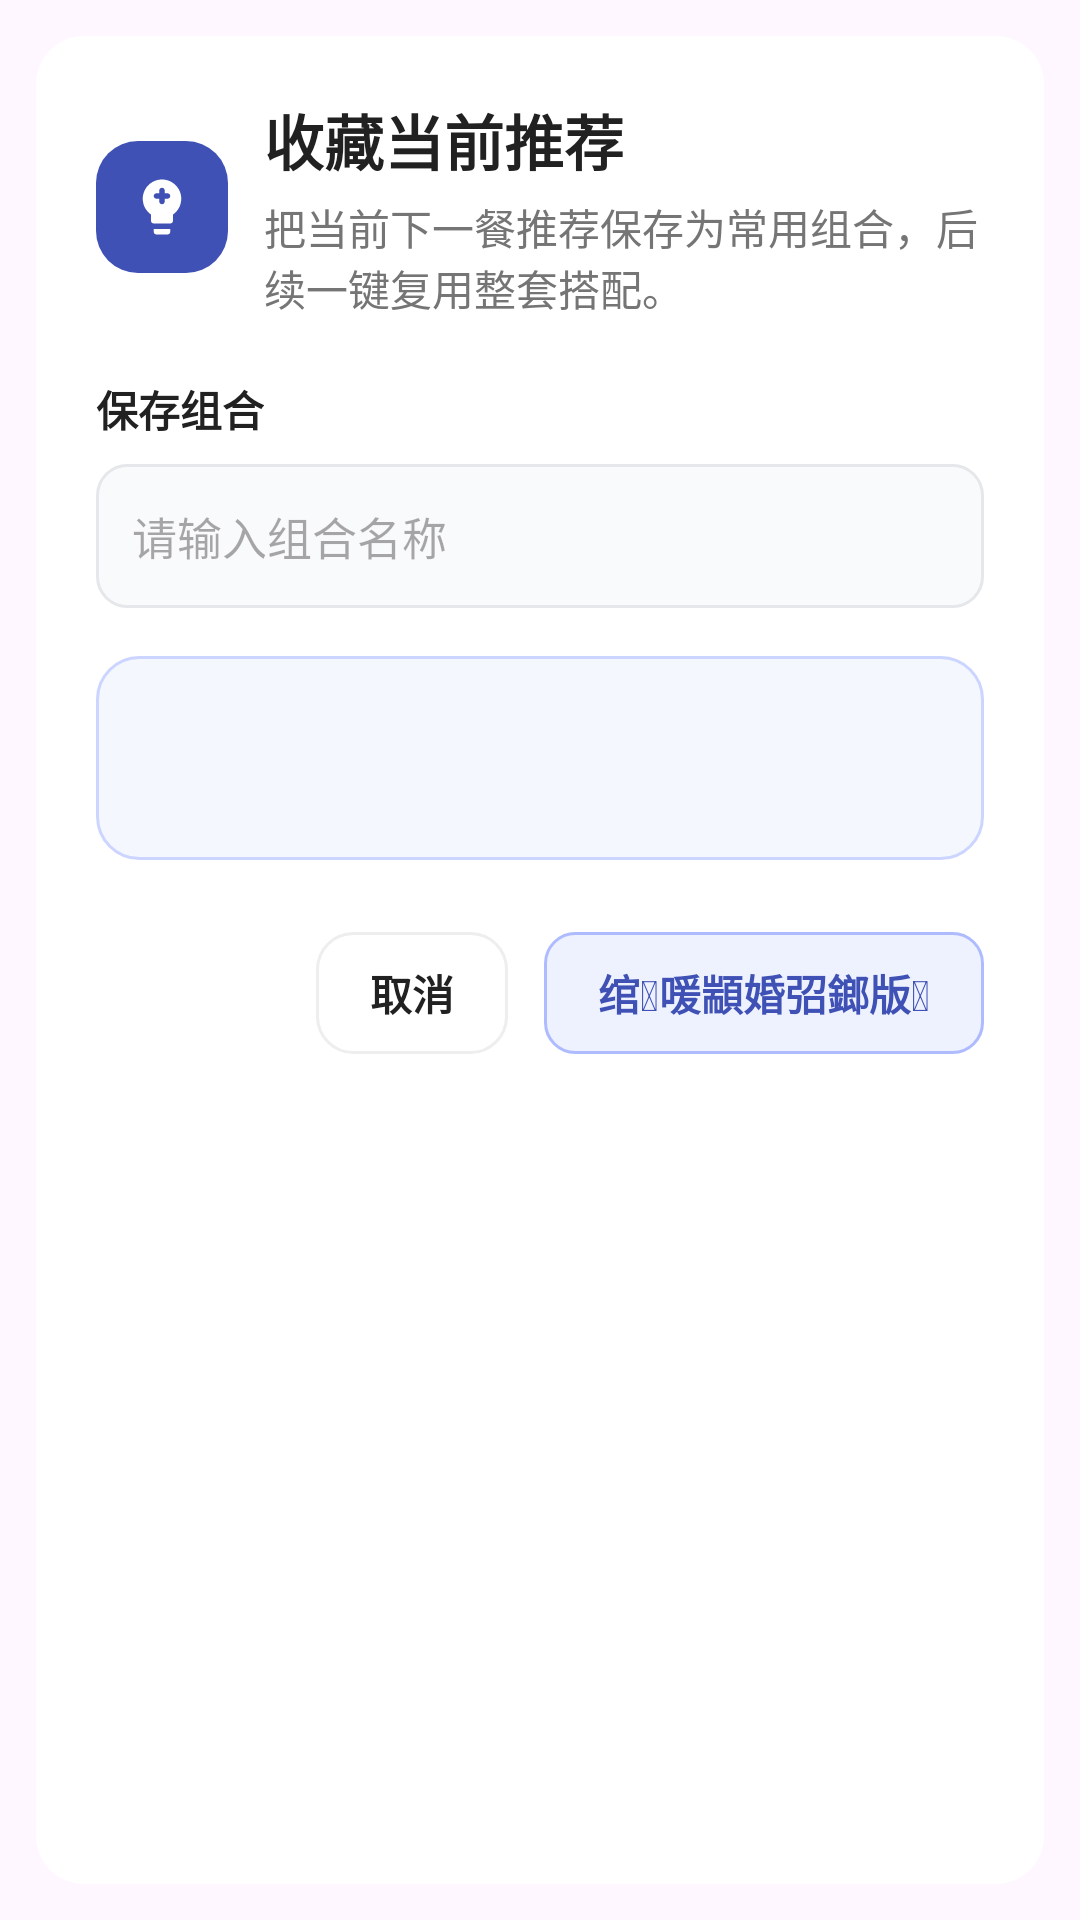

Where icons sit on this 1080 × 1920 app screen, as (x1, y1, x2, y2):
lightbulb: (142, 179, 182, 235)
